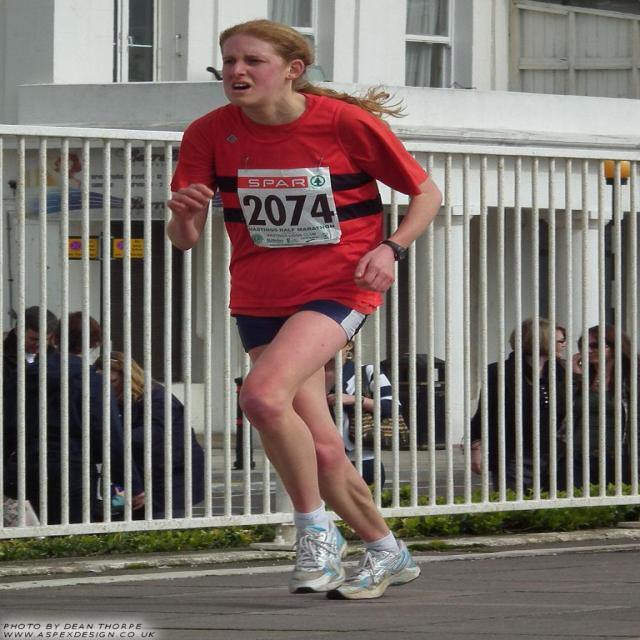Bib: (241, 195, 338, 230)
